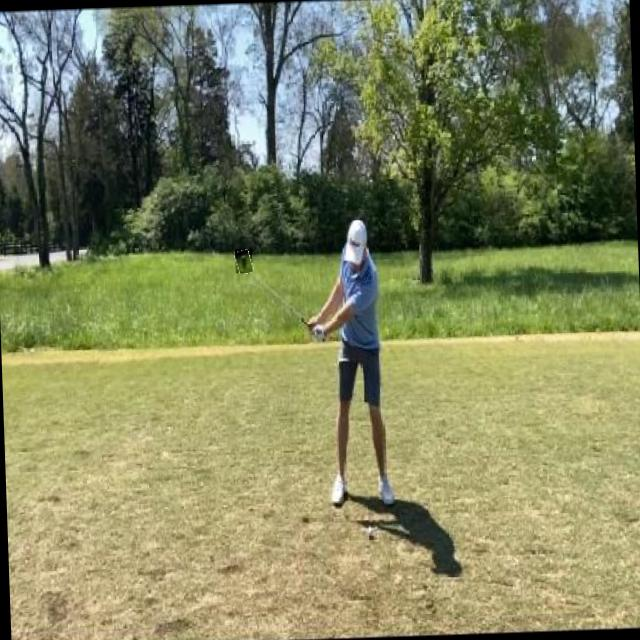club head: (235, 248, 252, 274)
